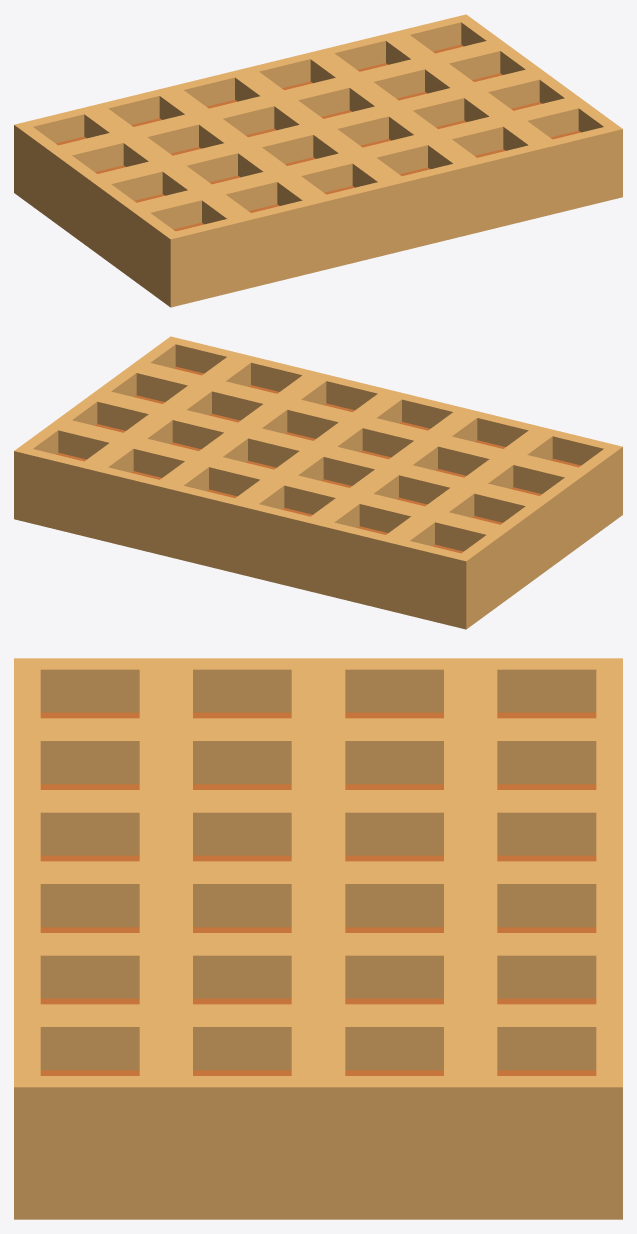
Rendered from CandylandWaflle_01.fbx.
3 renders of one model, top to bottom at view 1: azimuth 30°, elevation 25°; view 2: azimuth 150°, elevation 25°; view 3: azimuth 270°, elevation 25°, orthographic. The views are drawn at different scales.
Visible parts, largest first — view 1: CandylandWaflle_01; view 2: CandylandWaflle_01; view 3: CandylandWaflle_01.
Part boxes in pixels (left/top/right/bottom): CandylandWaflle_01: left=14, top=14, right=622, bottom=307; CandylandWaflle_01: left=14, top=336, right=622, bottom=629; CandylandWaflle_01: left=14, top=658, right=622, bottom=1219.
Size of the model in its own units: 1 by 0.1441 by 0.6.
